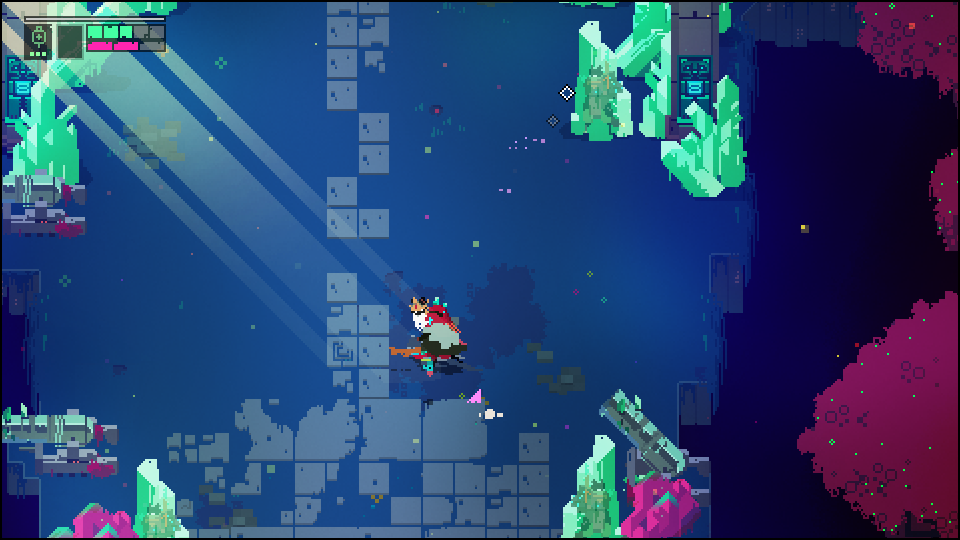hanged_man: (393, 293, 471, 372)
